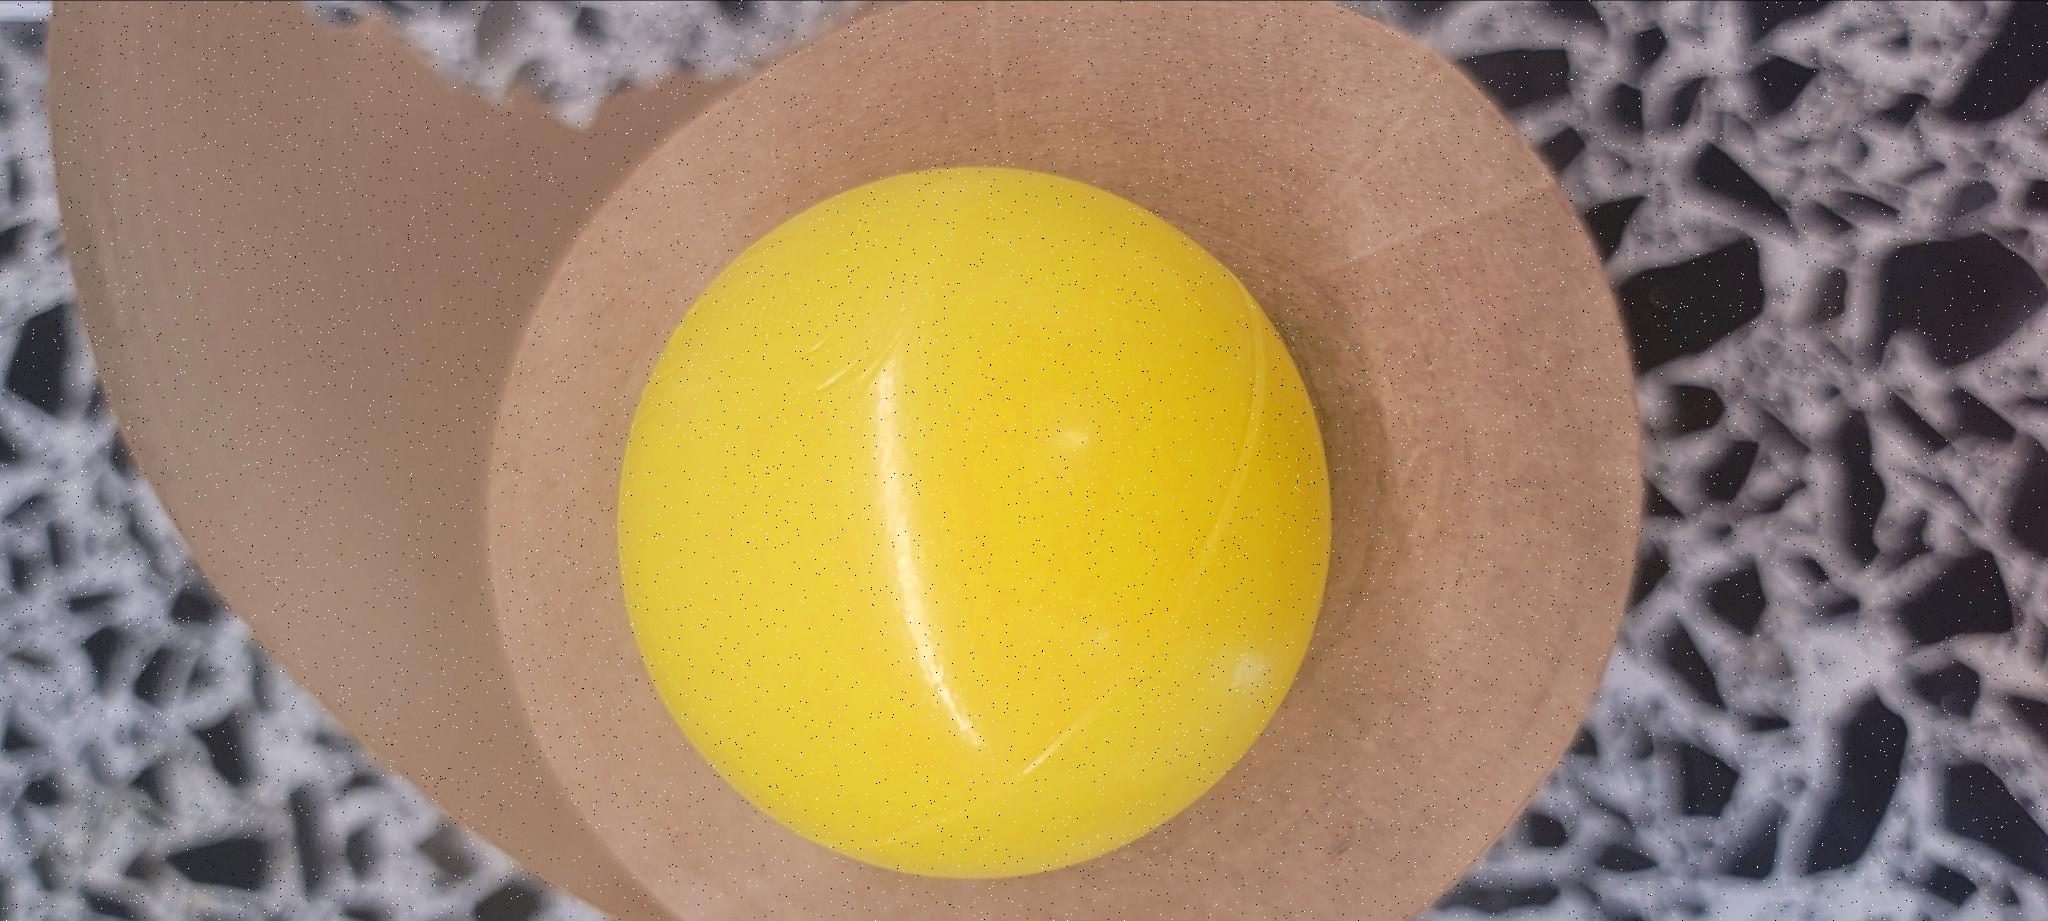Yellow-Ball: (52, 617, 752, 921)
